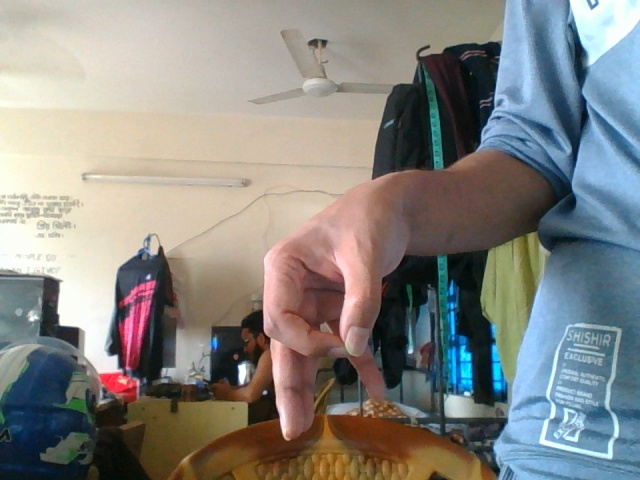pa: (255, 165, 416, 443)
